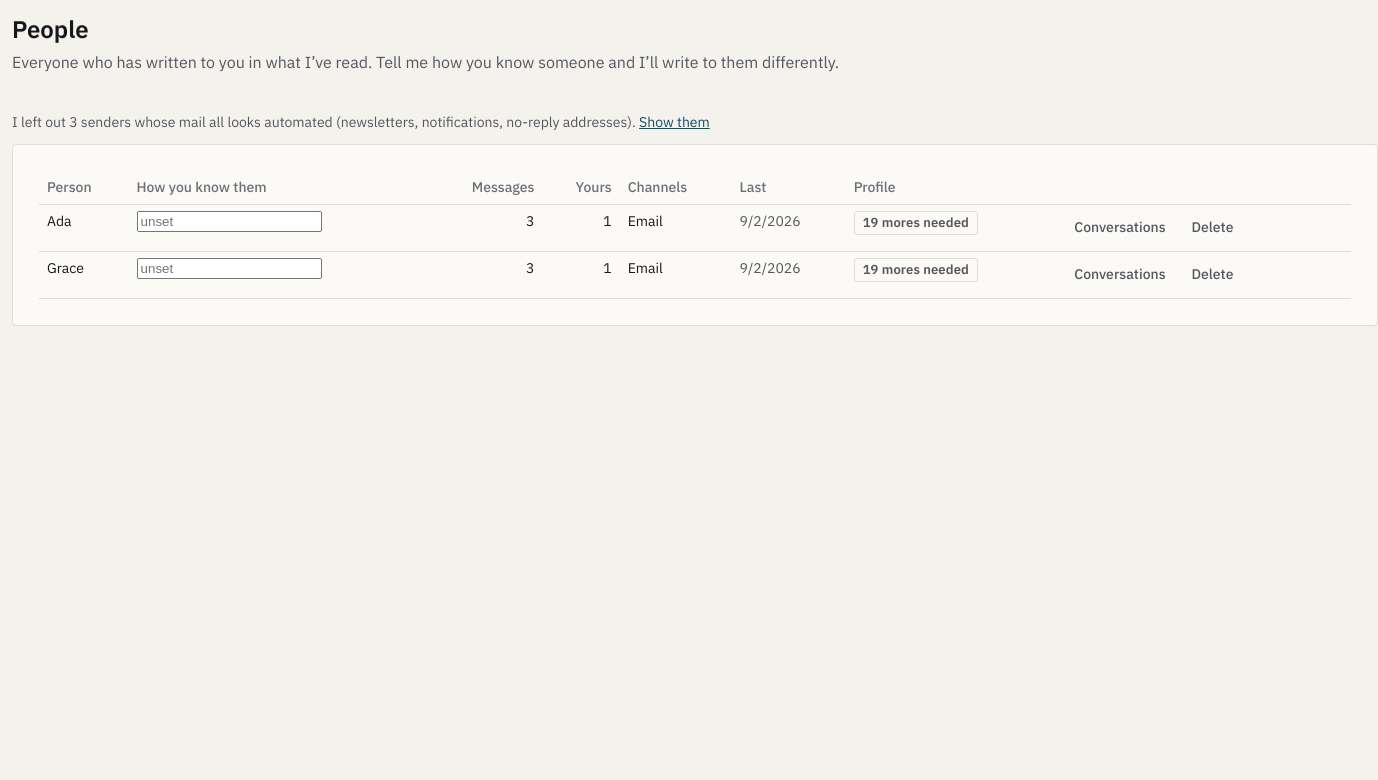
Test case: People lists people › says it is looking, then shows the senders, with a way to put one back
Click the button "Show them" at [674, 122], box [639,112,710,132]
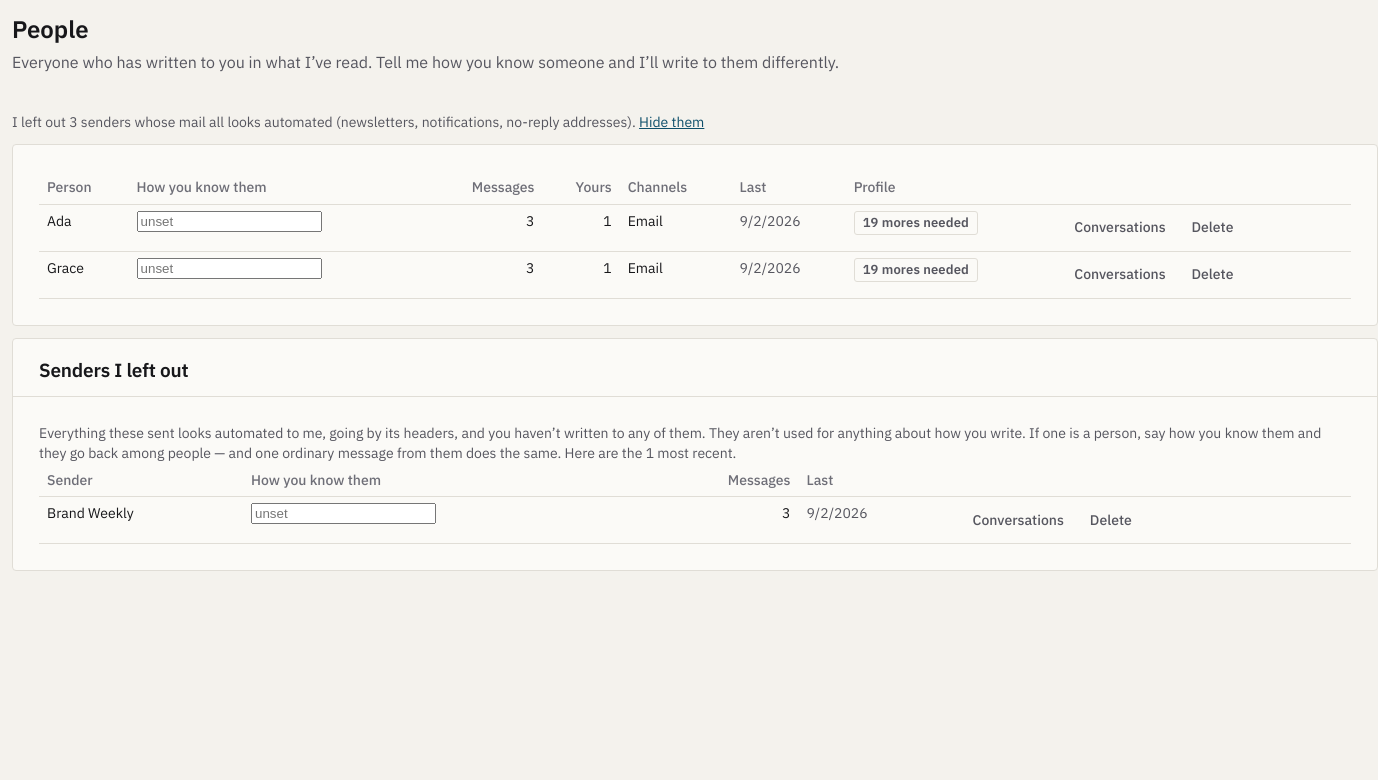
Now the text "Looking" is shown, box [39,423,1351,464]
Now the text "Brand Weekly" is shown, box [47,504,134,522]
Now the field named "How you know Brand Weekly" is shown, box [251,503,436,524]
